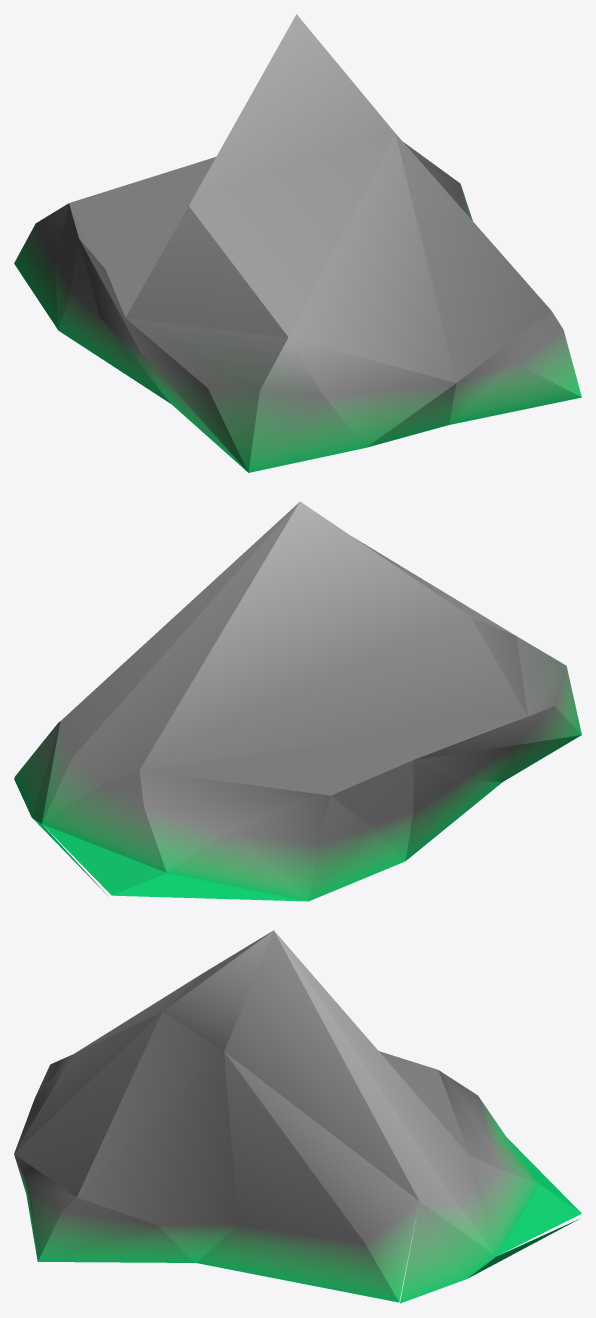
File: mdl_env_1_forest_rock_a_v02.fbx
3 renders of one model, top to bottom at view 1: azimuth 30°, elevation 25°; view 2: azimuth 150°, elevation 25°; view 3: azimuth 270°, elevation 25°, orthographic. The views are drawn at different scales.
Visible parts, largest first — view 1: mdl_env_1_forest_rock_a_v01.001; view 2: mdl_env_1_forest_rock_a_v01.001; view 3: mdl_env_1_forest_rock_a_v01.001.
Part boxes in pixels (bbox=[...]): mdl_env_1_forest_rock_a_v01.001: bbox=[14, 14, 581, 472]; mdl_env_1_forest_rock_a_v01.001: bbox=[14, 501, 581, 901]; mdl_env_1_forest_rock_a_v01.001: bbox=[14, 930, 581, 1303].
Bounding box in the file's own units: 2.16 × 1.45 × 2.71.
